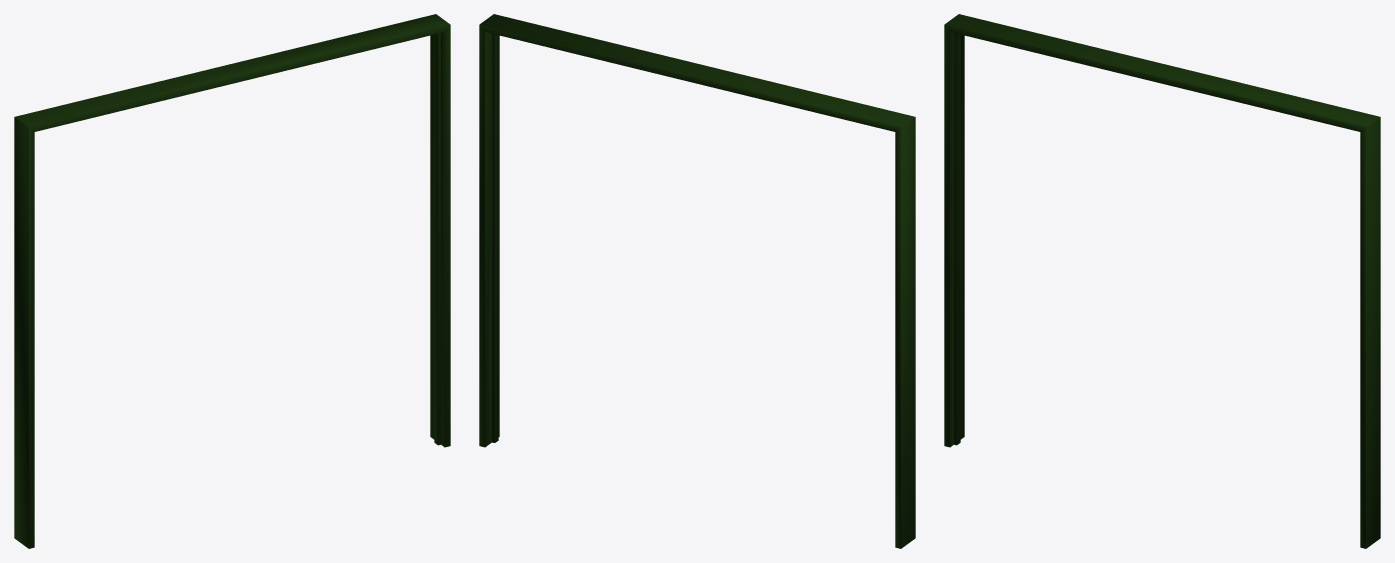
File: FireDoorFrame.obj
3 views of the same model, side by side, from view 1: azimuth 30°, elevation 25°; view 2: azimuth 150°, elevation 25°; view 3: azimuth 330°, elevation 25° (orthographic).
Visible parts, largest first — view 1: SingleDoor_Type_Tall.023_DoubleDoor_Frame_Color_Type_1_0; view 2: SingleDoor_Type_Tall.023_DoubleDoor_Frame_Color_Type_1_0; view 3: SingleDoor_Type_Tall.023_DoubleDoor_Frame_Color_Type_1_0.
Boxes of the visible parts, left/top/right/bottom form: SingleDoor_Type_Tall.023_DoubleDoor_Frame_Color_Type_1_0: left=14, top=14, right=450, bottom=548; SingleDoor_Type_Tall.023_DoubleDoor_Frame_Color_Type_1_0: left=479, top=14, right=915, bottom=548; SingleDoor_Type_Tall.023_DoubleDoor_Frame_Color_Type_1_0: left=944, top=14, right=1380, bottom=548.
Bounding box in the file's own units: 2.2 × 2.1 × 0.131.
